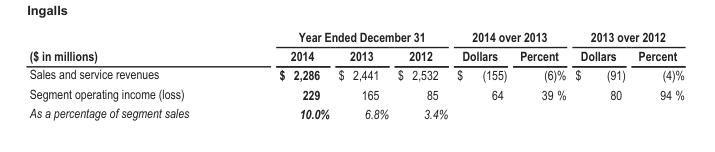table: (28, 28, 683, 120)
table column: (28, 28, 233, 120), (233, 28, 333, 120), (451, 28, 512, 120), (570, 28, 631, 120), (333, 28, 392, 120), (392, 28, 451, 120), (512, 28, 570, 120), (631, 28, 683, 120)
table column header: (28, 28, 683, 64)
table row: (28, 83, 683, 103), (28, 45, 683, 64), (28, 64, 683, 83), (28, 28, 683, 45), (28, 103, 683, 120)
table spanning cell: (28, 28, 233, 64), (233, 28, 451, 45), (451, 28, 570, 45), (570, 28, 683, 45)
